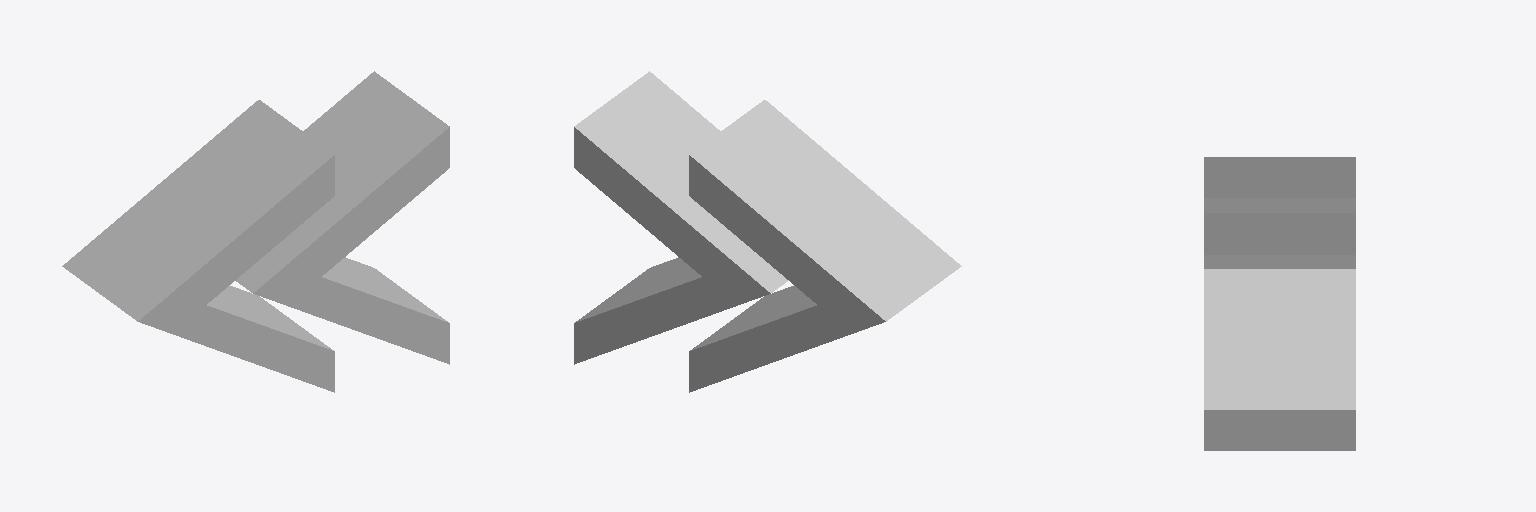
Rendered from builder-right.obj.
3 views of the same model, side by side, from view 1: azimuth 30°, elevation 25°; view 2: azimuth 150°, elevation 25°; view 3: azimuth 270°, elevation 25° (orthographic).
Visible parts, largest first — view 1: right_Circle; view 2: right_Circle; view 3: right_Circle.
Part boxes in pixels (left/top/right/bottom): right_Circle: left=62, top=71, right=449, bottom=392; right_Circle: left=574, top=71, right=961, bottom=392; right_Circle: left=1204, top=157, right=1355, bottom=450.
Size of the model in its own units: 3.74 by 2.72 by 1.57.